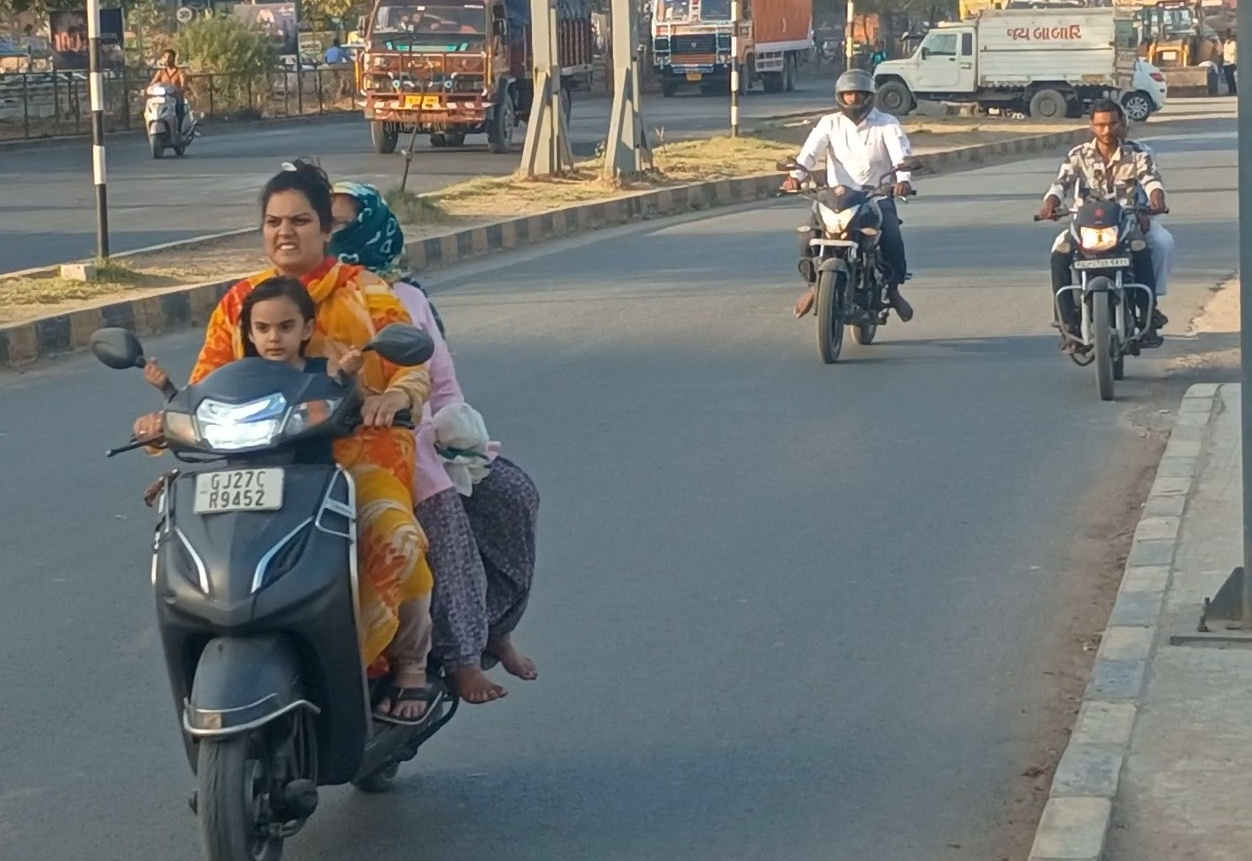BikeWithRider: (81, 152, 552, 859), (1023, 91, 1188, 409), (766, 60, 930, 373), (130, 41, 210, 163)
Helmet: (827, 65, 886, 121)
NoHelmet: (249, 156, 342, 270), (317, 176, 412, 276), (231, 272, 322, 370), (1079, 95, 1134, 151), (153, 46, 185, 78)
